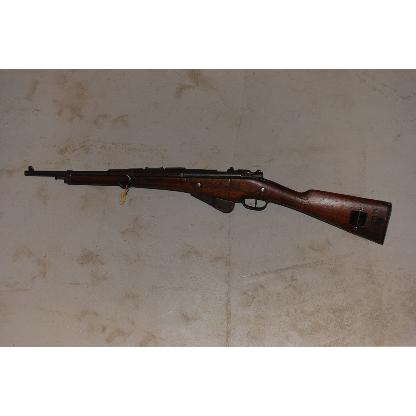gun: (24, 166, 390, 240)
